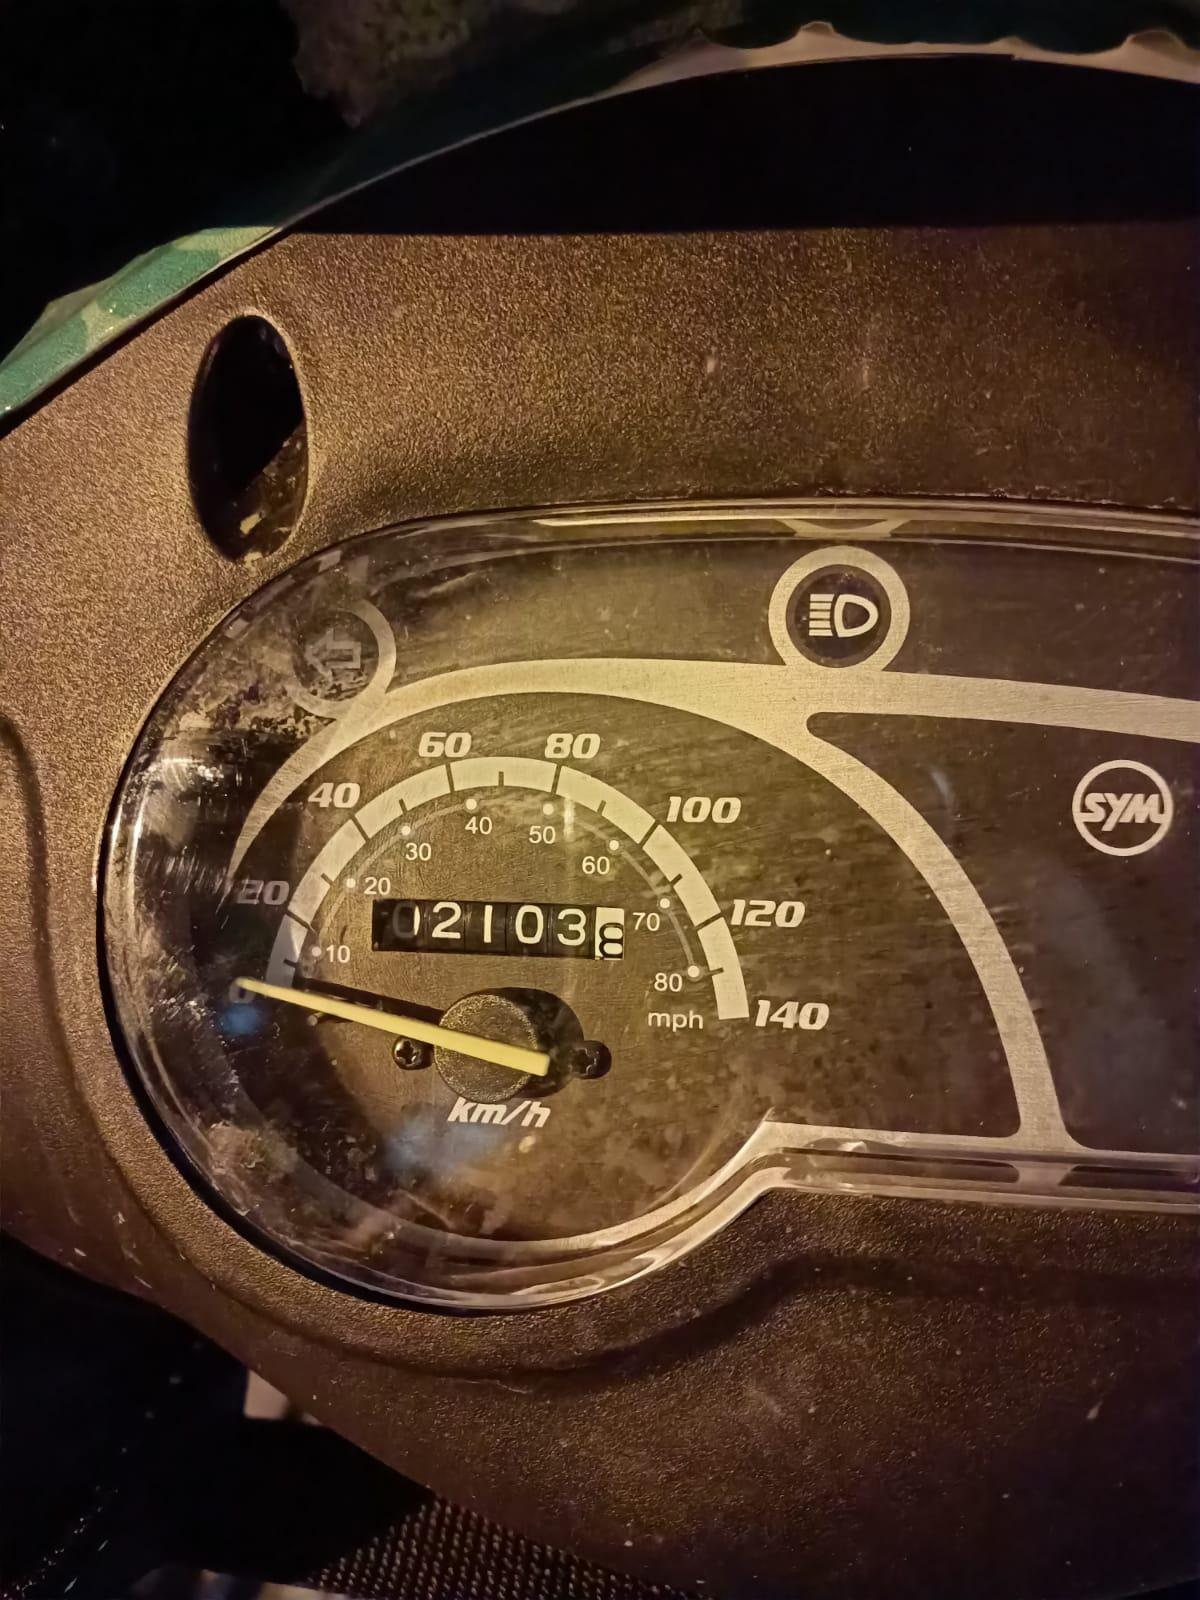0: (513, 903, 545, 945), (389, 900, 422, 939)
1: (482, 905, 493, 944)
2: (430, 901, 461, 939)
3: (556, 907, 587, 946)
8: (597, 921, 625, 957)
odometer: (371, 894, 630, 959)
